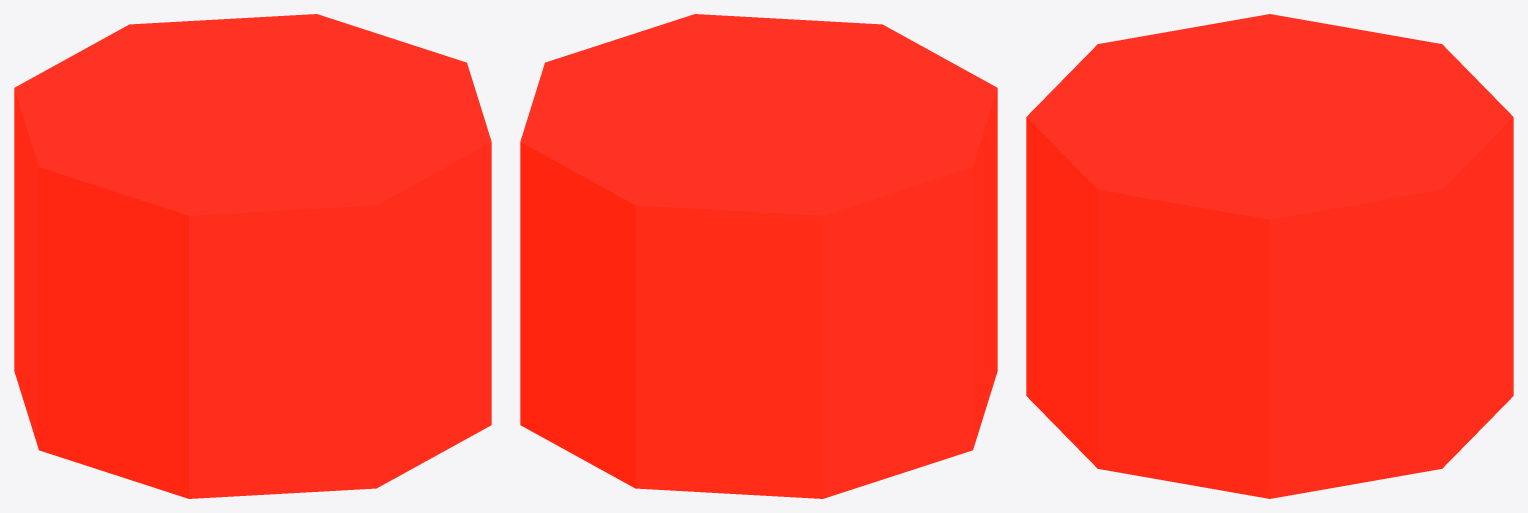
Rendered from RedLight.glb.
3 views of the same model, side by side, from view 1: azimuth 30°, elevation 25°; view 2: azimuth 150°, elevation 25°; view 3: azimuth 270°, elevation 25° (orthographic).
Parts seen in each view (by area): view 1: Cylinder.010; view 2: Cylinder.010; view 3: Cylinder.010.
Part boxes in pixels (box(x1,y1,x2,y2)): Cylinder.010: box(14, 14, 491, 498); Cylinder.010: box(520, 14, 997, 498); Cylinder.010: box(1026, 14, 1513, 498).
Size of the model in its own units: 0.4942 by 0.3125 by 0.4942.
